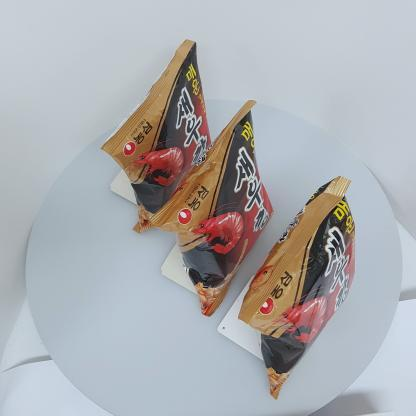Plastic Packaging: (238, 180, 354, 400), (166, 106, 272, 314), (96, 35, 212, 224)
